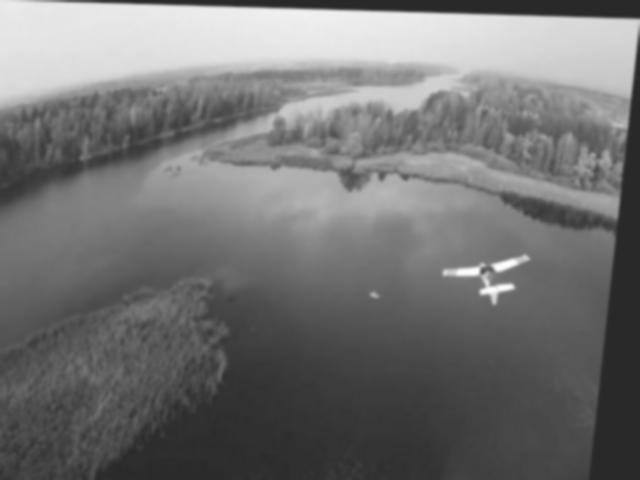hedef: (443, 240, 547, 309)
